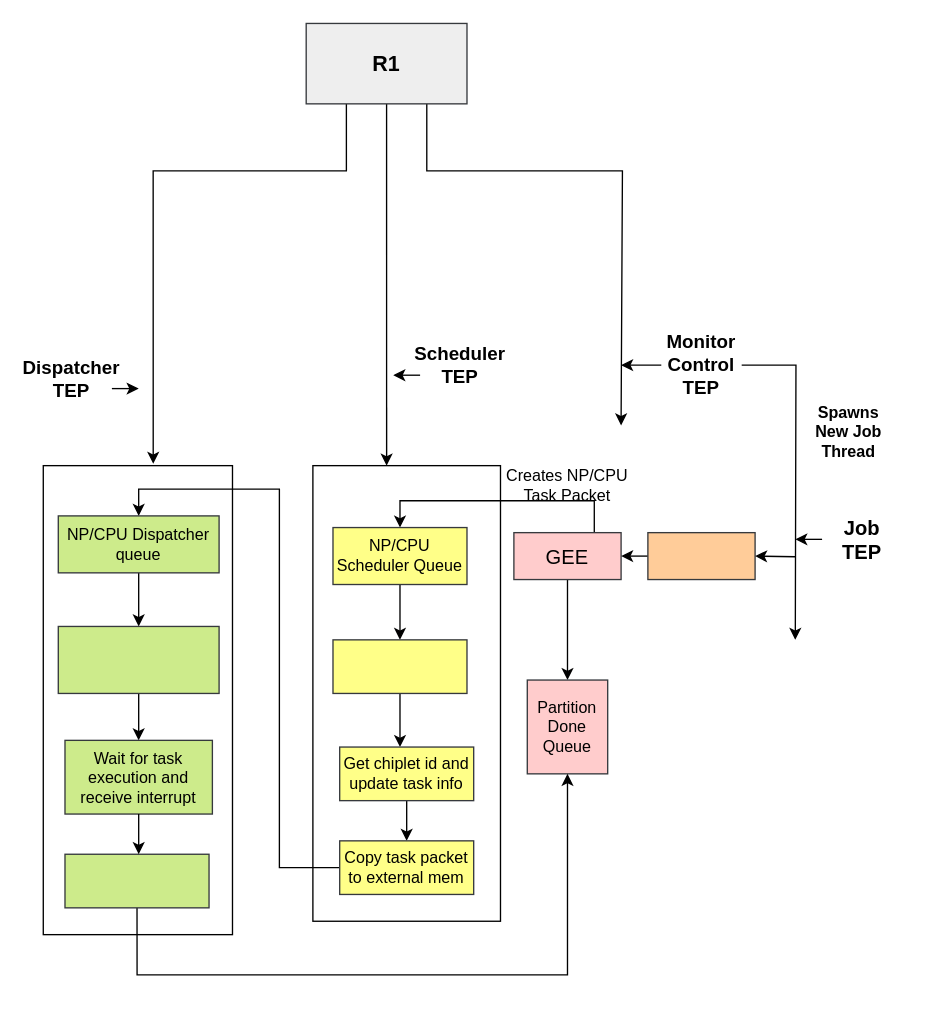
This 925x1009 diagram has some shape labels left out. The centre of each missing label's shape, as x and y in pixels:
Create Bare Metal Task Packet: [399,666]
Job Module: [701,555]
Notifies task packet status to scheduler: [136,880]
Put Task info packet to respective task info queue: [138,659]
